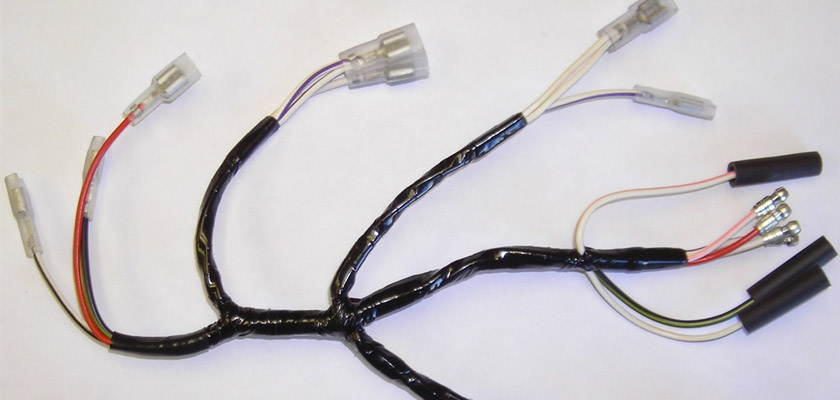Nonrec_Tangler: (13, 1, 826, 374)
